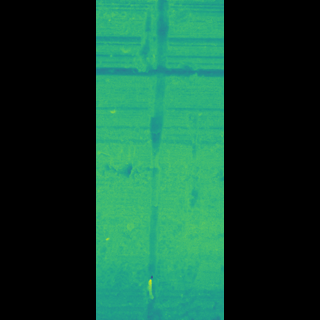Loch: (146, 0, 177, 320), (133, 163, 185, 320)
